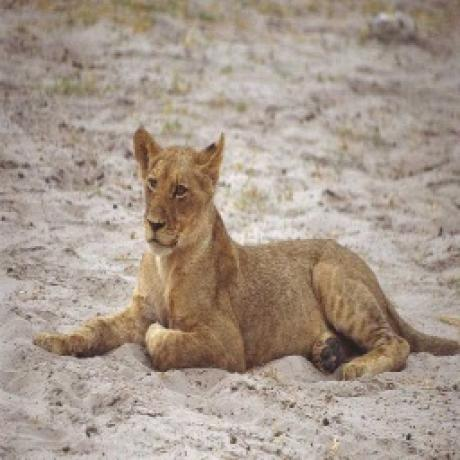Lion: (29, 124, 460, 384)
